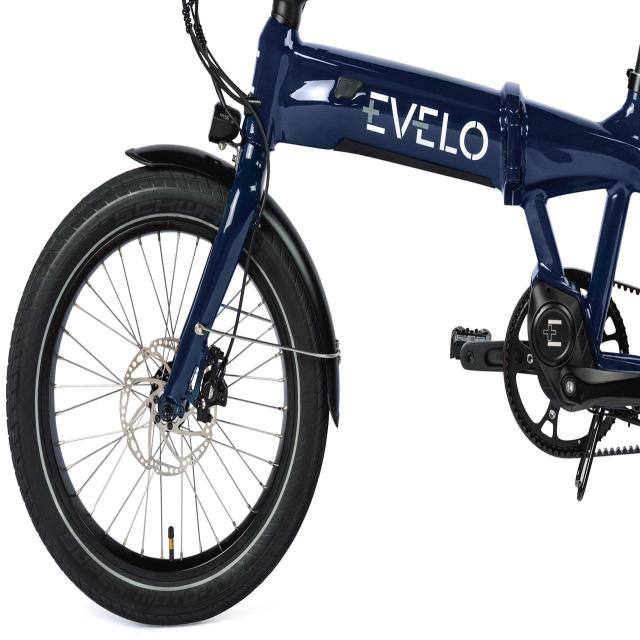folding-bike: (3, 0, 640, 627)
